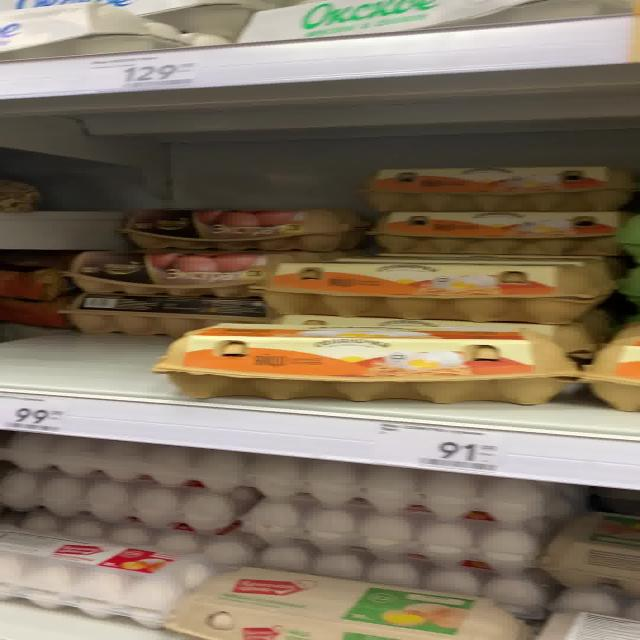egg box: (152, 320, 586, 404), (177, 562, 528, 638), (266, 255, 618, 326), (0, 521, 206, 629), (234, 0, 599, 45), (360, 207, 619, 257), (116, 204, 372, 254), (362, 168, 638, 212), (68, 247, 292, 301), (57, 287, 272, 337)
